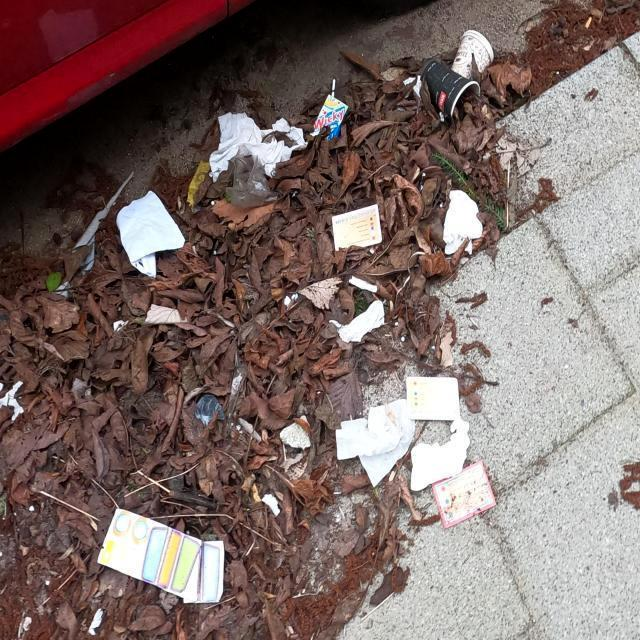Coffee Cup: (412, 53, 481, 114), (450, 29, 496, 89)
Paper: (208, 110, 308, 182), (114, 188, 186, 278), (410, 417, 470, 491), (335, 404, 403, 462), (442, 183, 484, 253), (328, 298, 386, 344)
Plastic: (279, 414, 313, 450)
